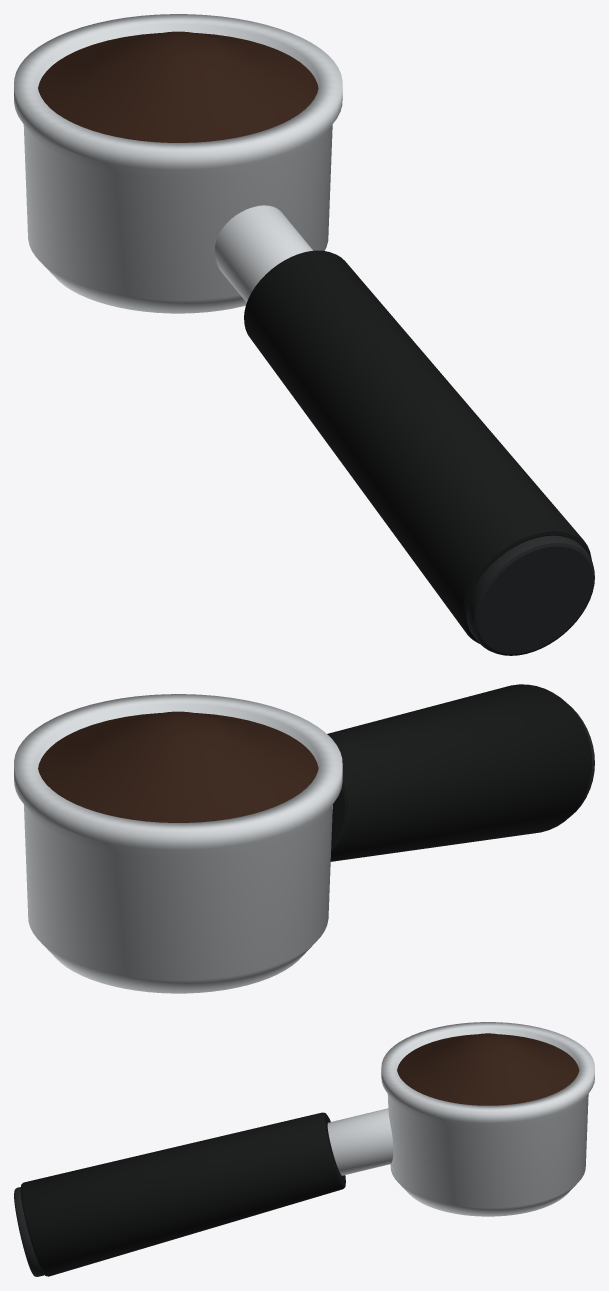
Rendered from portafilter.glb.
3 views of the same model, one above another, from view 1: azimuth 30°, elevation 25°; view 2: azimuth 150°, elevation 25°; view 3: azimuth 270°, elevation 25° (orthographic). The views are drawn at different scales.
Parts seen in each view (by area): view 1: Portafilter basket, Portafilter grip, Dose of ground coffee, Handle end cap, Portafilter neck; view 2: Portafilter basket, Portafilter grip, Dose of ground coffee; view 3: Portafilter grip, Portafilter basket, Dose of ground coffee, Portafilter neck, Handle end cap.
Part boxes in pixels (box(x1,y1,x2,y2)): Portafilter basket: box(14, 14, 342, 313); Portafilter grip: box(244, 250, 591, 643); Dose of ground coffee: box(38, 31, 318, 142); Handle end cap: box(466, 535, 594, 655); Portafilter neck: box(214, 205, 312, 302); Portafilter basket: box(14, 694, 342, 993); Portafilter grip: box(327, 684, 592, 861); Dose of ground coffee: box(38, 711, 318, 822); Portafilter grip: box(20, 1112, 345, 1276); Portafilter basket: box(381, 1022, 594, 1216); Dose of ground coffee: box(397, 1033, 579, 1105); Portafilter neck: box(327, 1108, 393, 1175); Handle end cap: box(14, 1187, 44, 1276).
Bounding box in the file's own units: 0.07 × 0.0843 × 0.1904.
